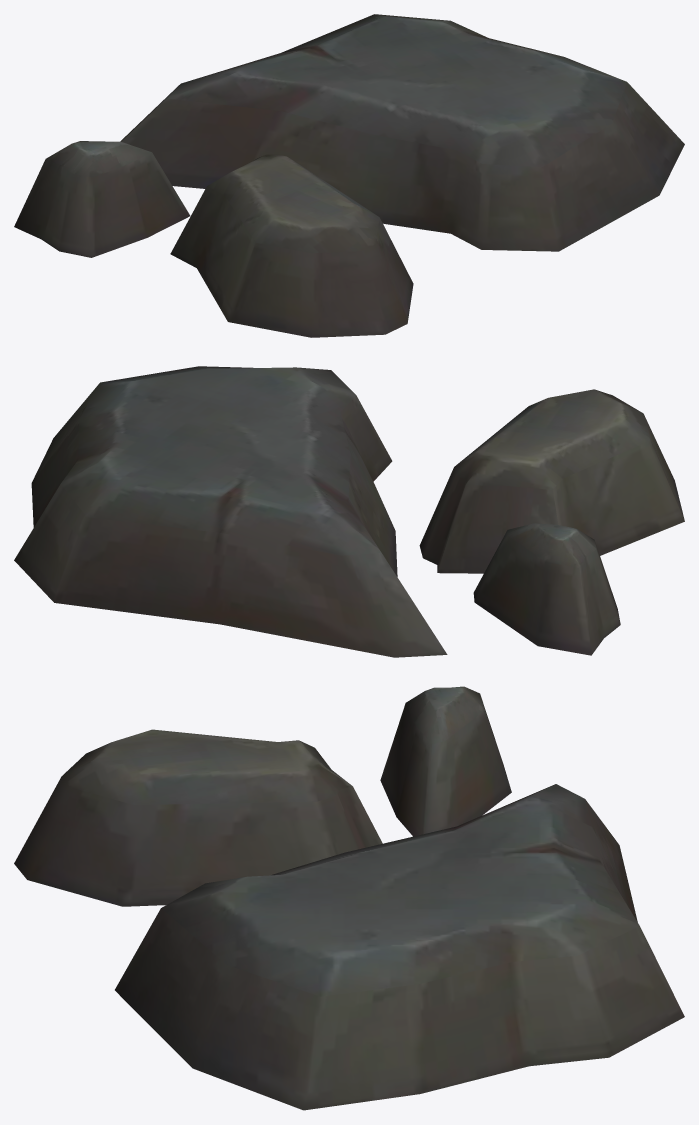
3 renders of one model, top to bottom at view 1: azimuth 30°, elevation 25°; view 2: azimuth 150°, elevation 25°; view 3: azimuth 270°, elevation 25°, orthographic. The views are drawn at different scales.
Bounding box in the file's own units: 2.39 × 0.3341 × 1.96.
Materials: 1 (1 with a texture image).
